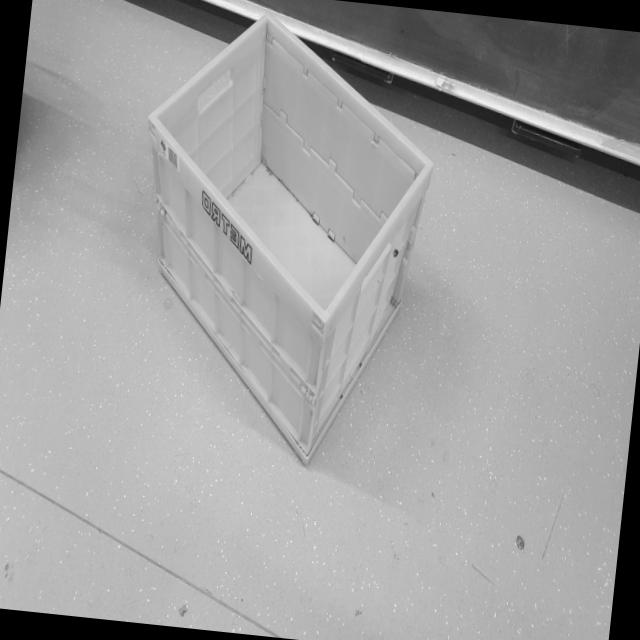box: (111, 0, 458, 483)
